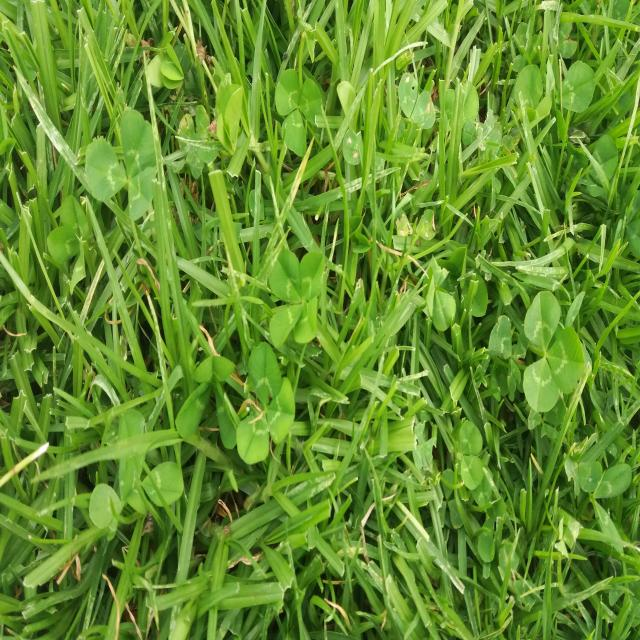Four Leaf Clover: (268, 248, 325, 349)
